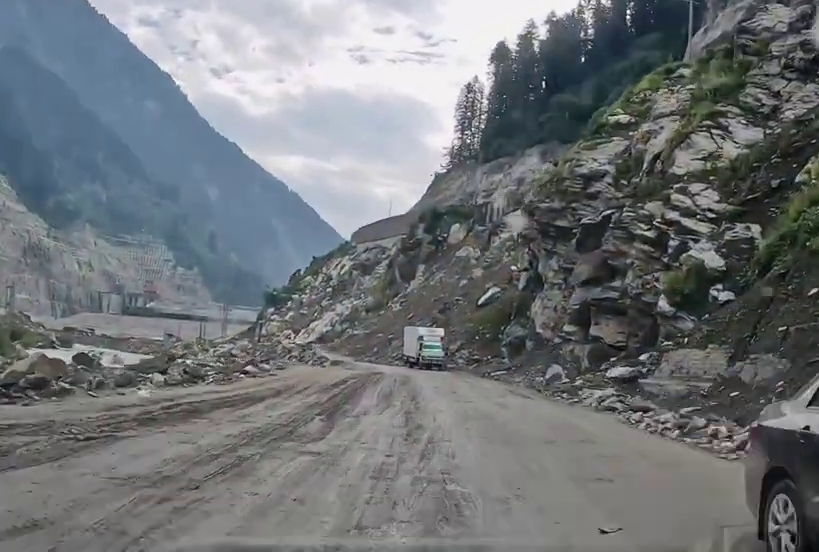unexpected: (289, 313, 695, 411)
